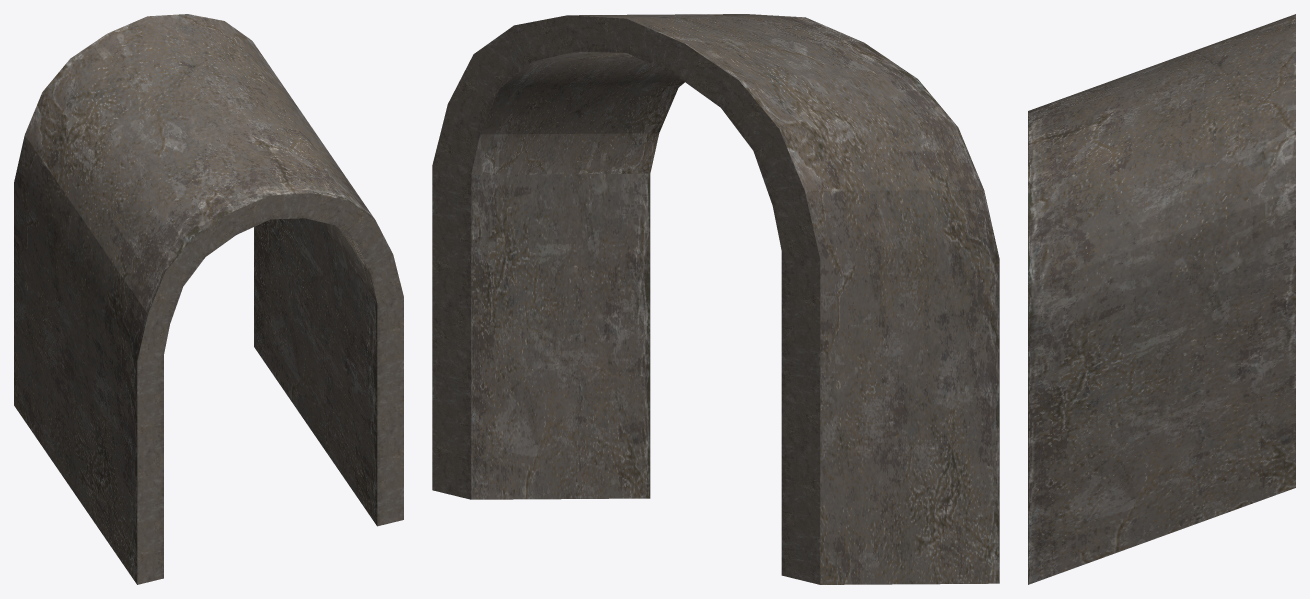
The model's file is ArchwayDiagonal.fbx.
The picture shows the model from 3 angles, left to right: view 1: azimuth 30°, elevation 25°; view 2: azimuth 150°, elevation 25°; view 3: azimuth 270°, elevation 25°; orthographic projection. The views are drawn at different scales.
Visible parts, largest first — view 1: Trim_StoneArchway_Diagonal_4x4x450_; view 2: Trim_StoneArchway_Diagonal_4x4x450_; view 3: Trim_StoneArchway_Diagonal_4x4x450_.
Boxes of the visible parts, x1,y1,x2,y2 form: Trim_StoneArchway_Diagonal_4x4x450_: (14,14,403,584); Trim_StoneArchway_Diagonal_4x4x450_: (432,14,999,584); Trim_StoneArchway_Diagonal_4x4x450_: (1028,14,1295,584).
Size of the model in its own units: 500 by 799 by 400.
